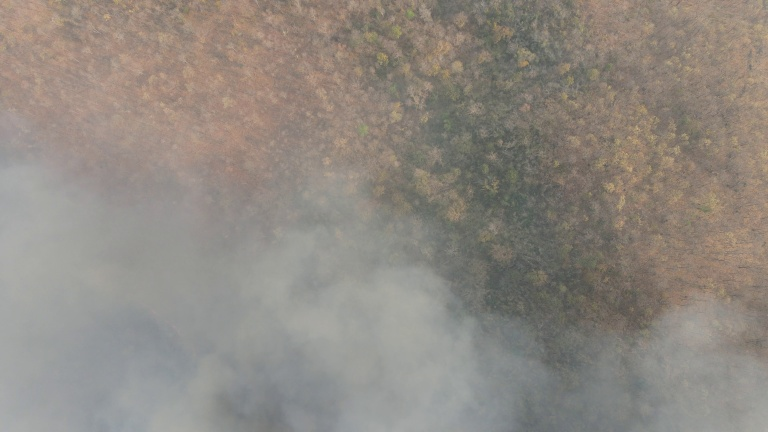smoke: (1, 164, 510, 432)
